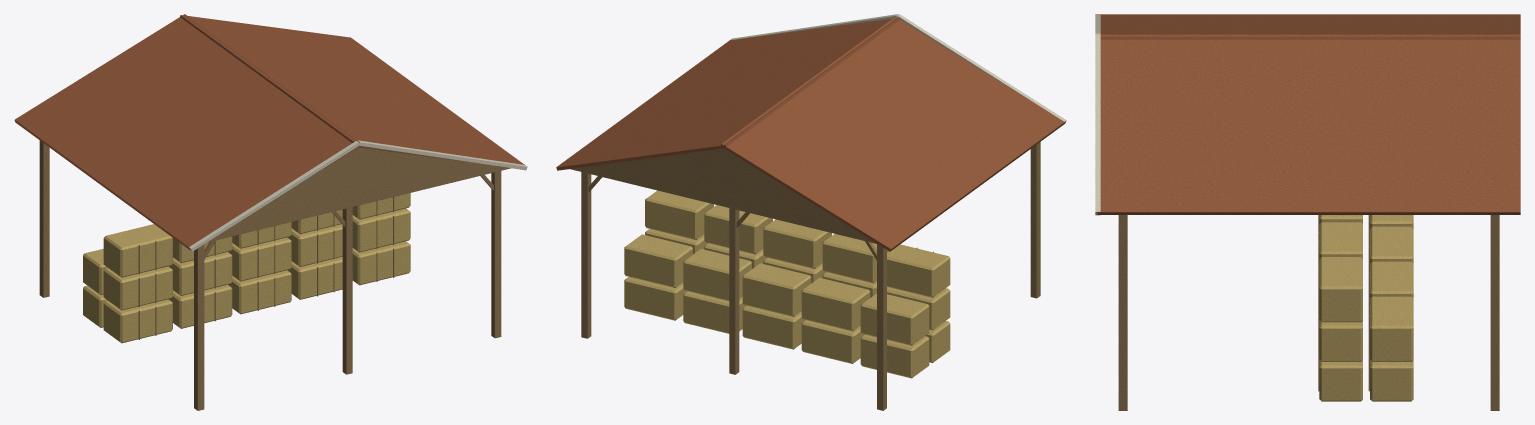
The model's file is HAYSHED2_lod1.glb.
The picture shows the model from 3 angles, left to right: view 1: azimuth 30°, elevation 25°; view 2: azimuth 150°, elevation 25°; view 3: azimuth 270°, elevation 25°; orthographic projection. The views are drawn at different scales.
Visible parts, largest first — view 1: HAYSHED2_LOD1; view 2: HAYSHED2_LOD1; view 3: HAYSHED2_LOD1.
Boxes of the visible parts, box(x1,y1,x2,y2) form: HAYSHED2_LOD1: box(14, 14, 527, 410); HAYSHED2_LOD1: box(556, 14, 1066, 410); HAYSHED2_LOD1: box(1095, 14, 1520, 410).
Bounding box in the file's own units: 10.2 × 6.92 × 9.27.
Materials: 4 (4 with a texture image).
